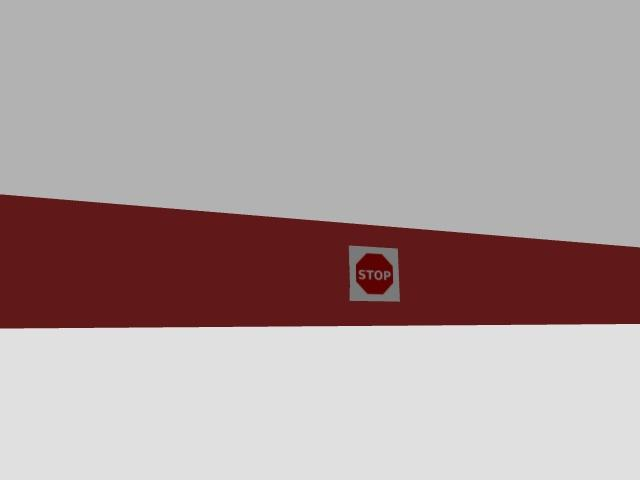stop: (349, 246, 399, 301)
